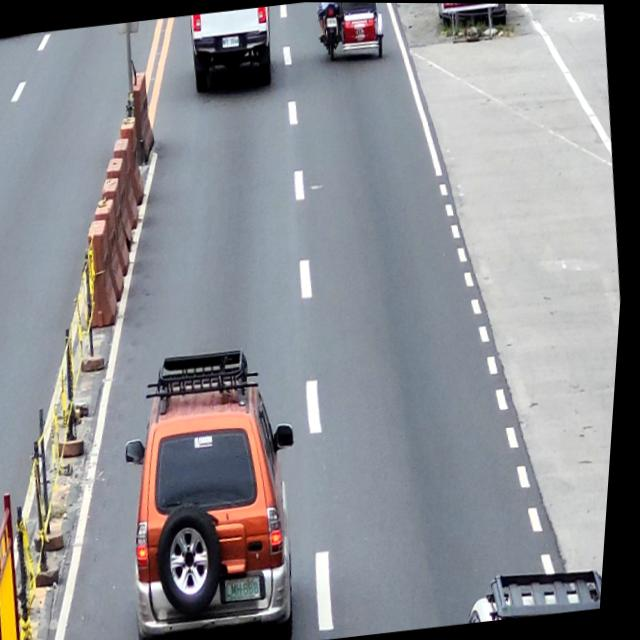Car: (109, 340, 329, 640), (186, 5, 279, 96)
License-Plate: (232, 576, 270, 602), (221, 34, 240, 48), (326, 15, 338, 26)
Tricycle: (314, 2, 388, 63)
